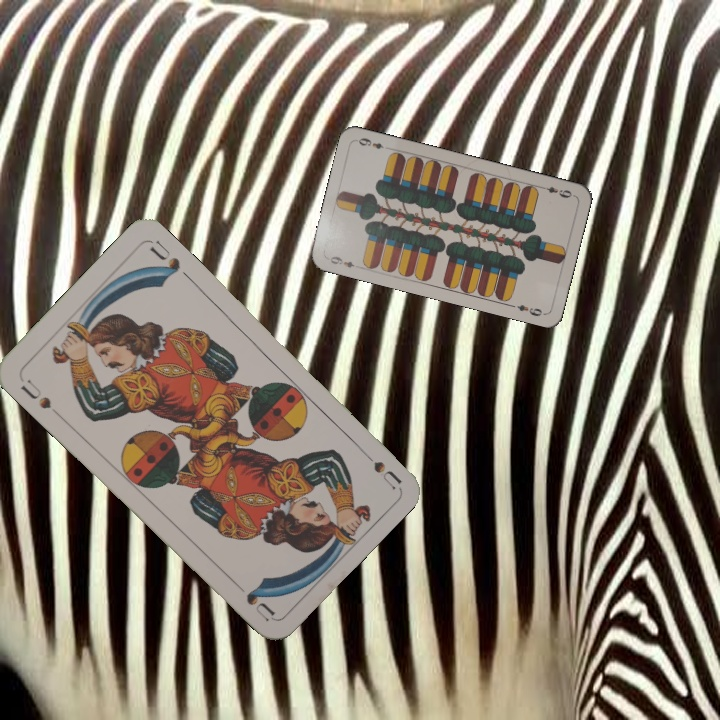E9: (536, 182, 576, 201), (326, 252, 357, 270)
SU: (354, 441, 403, 491), (16, 375, 54, 412)
